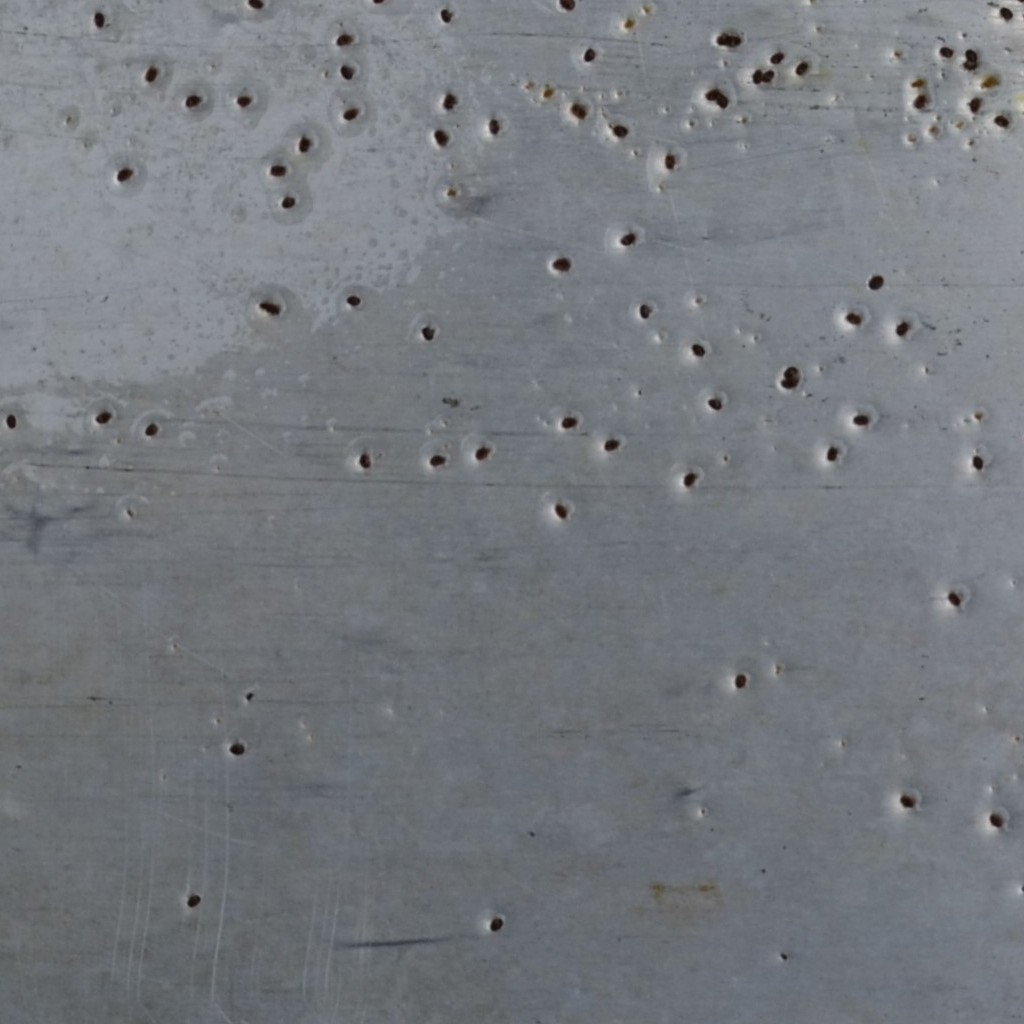varroa: (715, 33, 742, 51), (988, 807, 1006, 834), (440, 88, 460, 112), (616, 226, 637, 248), (430, 125, 451, 147), (550, 254, 572, 274), (92, 404, 112, 426), (114, 164, 133, 187), (899, 789, 916, 814), (845, 307, 862, 332), (690, 337, 705, 365), (569, 100, 589, 121), (185, 92, 205, 113), (866, 270, 885, 292), (893, 317, 911, 340), (474, 442, 492, 465), (731, 669, 747, 694), (428, 450, 447, 471), (947, 587, 964, 610), (851, 409, 871, 428), (419, 323, 438, 343), (226, 740, 246, 759), (993, 111, 1011, 132), (602, 436, 623, 454), (970, 450, 985, 474), (706, 395, 724, 415), (437, 4, 455, 24), (561, 414, 579, 434), (611, 120, 628, 141), (338, 61, 355, 82), (553, 500, 570, 521), (142, 419, 159, 440), (716, 87, 730, 112), (267, 163, 290, 178), (782, 362, 801, 380), (341, 104, 359, 123), (912, 93, 929, 113), (682, 468, 699, 488), (334, 32, 354, 49), (235, 91, 252, 111), (185, 889, 202, 909), (143, 65, 159, 86), (343, 292, 364, 308), (357, 450, 373, 471), (662, 150, 677, 172), (93, 6, 106, 31), (488, 915, 506, 933), (297, 135, 313, 155), (998, 5, 1016, 22), (794, 59, 811, 77), (637, 300, 653, 319), (825, 443, 839, 464), (939, 45, 955, 63), (769, 48, 785, 66), (280, 194, 297, 210), (781, 376, 799, 391), (968, 95, 982, 114), (705, 86, 719, 105), (760, 68, 776, 84), (487, 116, 501, 134), (4, 411, 18, 429), (581, 47, 596, 63), (555, 1, 578, 11), (751, 68, 763, 87), (964, 46, 979, 61), (242, 0, 267, 9), (962, 59, 979, 71)
